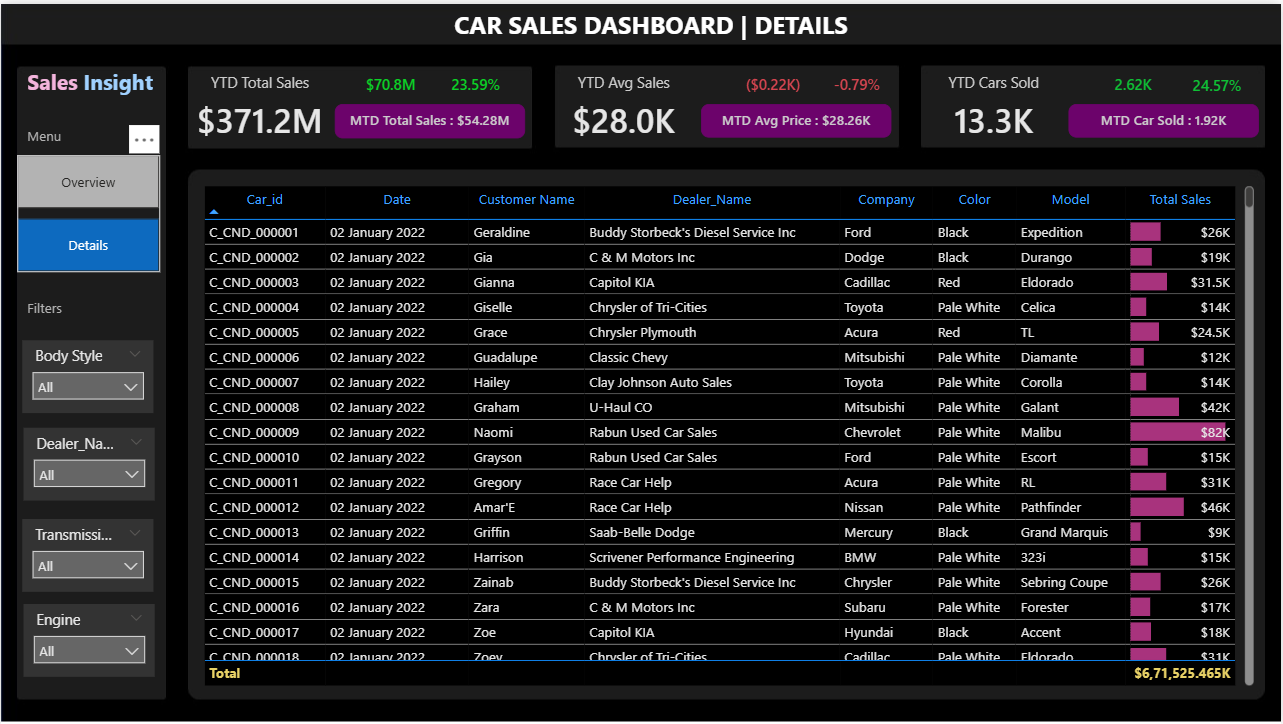

This screenshot's page, from the dashboard's own definition file:
{"tool":"powerbi","page":{"name":"Details","canvas":[1280,720],"ordinal":1},"visuals":[{"type":"card","title":"YTD Total Sales","fields":{"Values":["car_data.YTD Total sales"]},"box":[181,67.6,155.6,77.2],"z":0},{"type":"card","fields":{"Values":["car_data.Sales Difference"]},"box":[347.5,67.6,84.5,25.3],"z":1000},{"type":"card","fields":{"Values":["car_data.YoY Sales Growth"]},"box":[431.9,67.6,84.5,25.3],"z":2000},{"type":"card","fields":{"Values":["car_data.MTD KPI"]},"box":[334.2,100.1,190.6,34],"z":3000},{"type":"card","title":"YTD Avg Sales","fields":{"Values":["car_data.YTD Avg Price"]},"box":[545.3,67.6,155.6,77.2],"z":4000},{"type":"card","fields":{"Values":["car_data.Avg price Diff"]},"box":[729.9,67.6,84.5,25.3],"z":5000},{"type":"card","fields":{"Values":["car_data.YoY Avg Price"]},"box":[814.3,67.6,84.5,25.3],"z":6000},{"type":"card","fields":{"Values":["car_data.AVG MTD KPI"]},"box":[699.7,100.1,190.6,33.8],"z":7000},{"type":"card","title":"YTD Cars Sold","fields":{"Values":["car_data.YTD Cars Sold"]},"box":[914.5,67.6,155.6,77.2],"z":8000},{"type":"card","fields":{"Values":["car_data.Cars Sold diff"]},"box":[1089.4,67.6,84.5,25.3],"z":9000},{"type":"card","fields":{"Values":["car_data.YoY Car Sold Growth"]},"box":[1173.9,68.8,84.5,25.3],"z":10000},{"type":"card","fields":{"Values":["car_data.Car Sold KPI"]},"box":[1067.7,100.1,190.6,33.8],"z":11000},{"type":"textbox","box":[401.2,0,497.5,48.8],"z":12000},{"type":"slicer","fields":{"Values":["car_data.Body Style"]},"box":[21.2,336.2,131.2,72.5],"z":13000},{"type":"slicer","fields":{"Values":["car_data.Dealer_Name"]},"box":[22.5,423.8,131.2,72.5],"z":14000},{"type":"slicer","fields":{"Values":["car_data.Transmission"]},"box":[21.2,515,131.2,72.5],"z":15000},{"type":"slicer","fields":{"Values":["car_data.Engine"]},"box":[22.5,600,131.2,72.5],"z":16000},{"type":"textbox","box":[21.2,290,97.5,33.8],"z":17000},{"type":"tableEx","fields":{"Values":["car_data.Car_id","car_data.Date","car_data.Customer Name","car_data.Dealer_Name","car_data.Company","car_data.Color","car_data.Model","Sum(car_data.Price ($))"]},"box":[197.5,177.5,1060,508.8],"z":18000},{"type":"textbox","box":[21.2,57.5,142.5,48.8],"z":19000},{"type":"textbox","box":[21.2,117.5,97.5,33.8],"z":20000},{"type":"pageNavigator","box":[16.2,151.2,142.5,117.5],"z":20001}]}

Visuals, with their boxes in screenshot pixels (x1, y1, x2, y2), scaled from the page's 1280x720 canvas onto the 1283x724 screenshot:
"YTD Total Sales" card: box(181, 68, 337, 146)
card - car_data.Sales Difference: box(348, 68, 433, 93)
card - car_data.YoY Sales Growth: box(433, 68, 518, 93)
card - car_data.MTD KPI: box(335, 101, 526, 135)
"YTD Avg Sales" card: box(547, 68, 703, 146)
card - car_data.Avg price Diff: box(732, 68, 816, 93)
card - car_data.YoY Avg Price: box(816, 68, 901, 93)
card - car_data.AVG MTD KPI: box(701, 101, 892, 135)
"YTD Cars Sold" card: box(917, 68, 1073, 146)
card - car_data.Cars Sold diff: box(1092, 68, 1177, 93)
card - car_data.YoY Car Sold Growth: box(1177, 69, 1261, 95)
card - car_data.Car Sold KPI: box(1070, 101, 1261, 135)
textbox: box(402, 0, 901, 49)
slicer - car_data.Body Style: box(21, 338, 153, 411)
slicer - car_data.Dealer_Name: box(23, 426, 154, 499)
slicer - car_data.Transmission: box(21, 518, 153, 591)
slicer - car_data.Engine: box(23, 603, 154, 676)
textbox: box(21, 292, 119, 326)
tableEx - car_data.Car_id x car_data.Date: box(198, 178, 1260, 690)
textbox: box(21, 58, 164, 107)
textbox: box(21, 118, 119, 152)
pageNavigator: box(16, 152, 159, 270)
